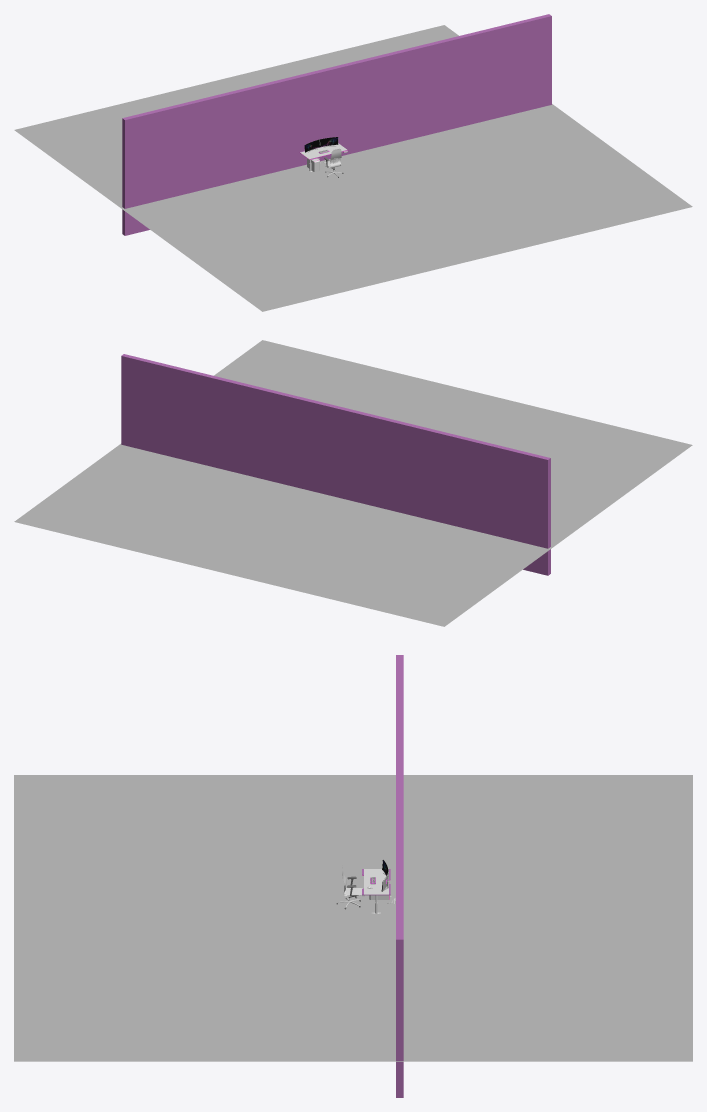
File: FinalTypingScene.glb
The picture shows the model from 3 angles, top to bottom: view 1: azimuth 30°, elevation 25°; view 2: azimuth 150°, elevation 25°; view 3: azimuth 270°, elevation 25°; orthographic projection. The views are drawn at different scales.
Parts seen in each view (by area): view 1: Plane, Cube, Escritorio-pc-Teclado-Pantalla-mouse; view 2: Plane, Cube; view 3: Plane, Cube, Escritorio-pc-Teclado-Pantalla-mouse.
Boxes of the visible parts, box(x1,y1,x2,y2) form: Plane: box(14, 25, 692, 311); Cube: box(122, 14, 551, 235); Escritorio-pc-Teclado-Pantalla-mouse: box(299, 137, 347, 171); Plane: box(14, 340, 692, 626); Cube: box(121, 354, 550, 575); Plane: box(14, 775, 692, 1061); Cube: box(396, 655, 403, 1097); Escritorio-pc-Teclado-Pantalla-mouse: box(361, 859, 395, 913).
Bounding box in the file's own units: 123 × 31.57 × 123.
Materials: 27 (1 with a texture image).
